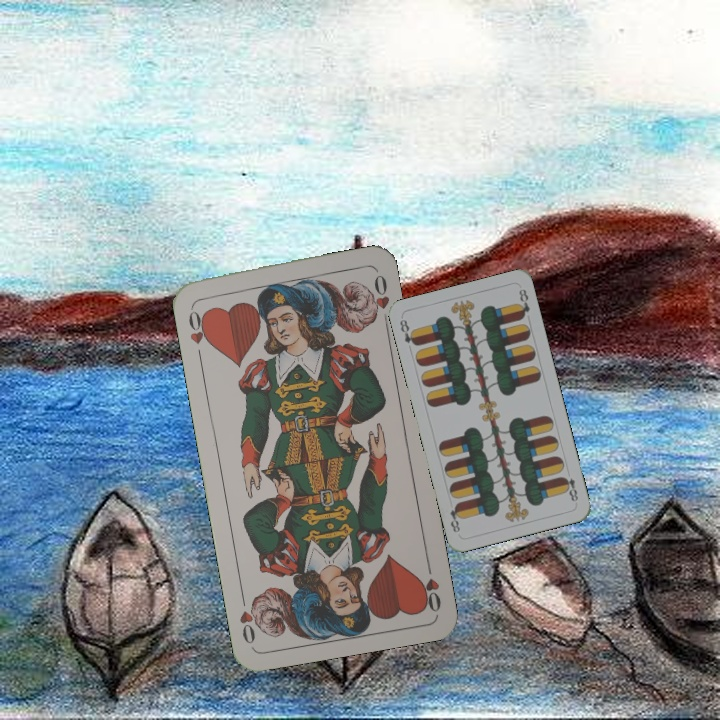E8: (396, 315, 420, 348), (559, 473, 581, 506)
HO: (184, 302, 214, 361), (416, 555, 444, 615)
